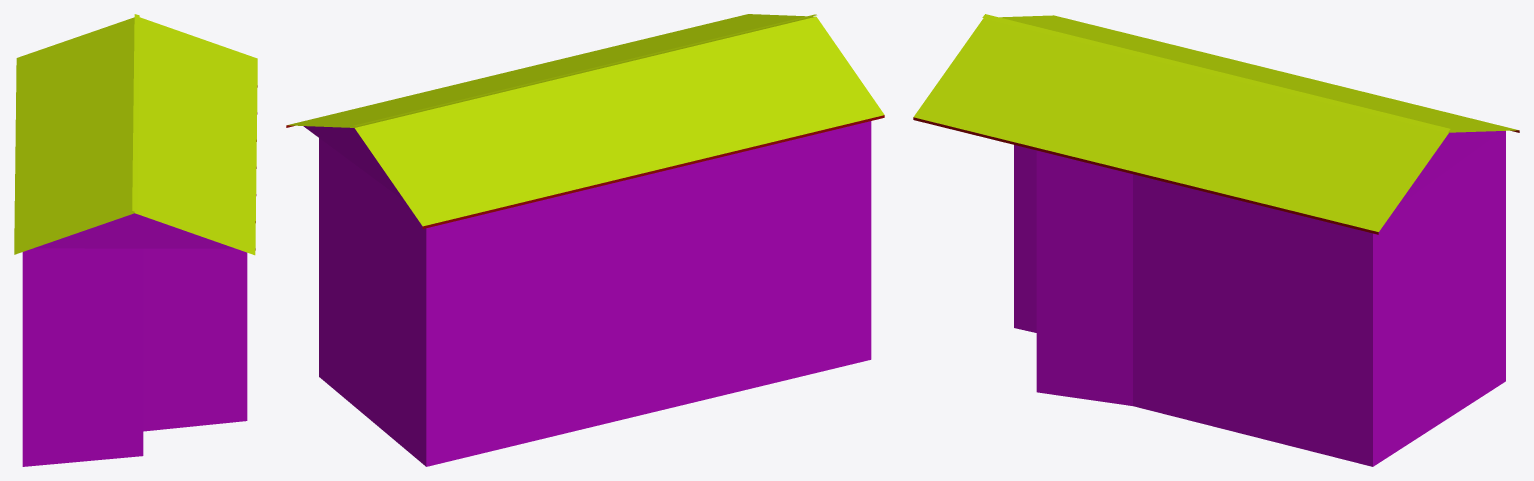
File: rmc_90.glb
The picture shows the model from 3 angles, left to right: view 1: azimuth 30°, elevation 25°; view 2: azimuth 150°, elevation 25°; view 3: azimuth 270°, elevation 25°; orthographic projection. The views are drawn at different scales.
Parts seen in each view (by area): view 1: rmc_90; view 2: rmc_90; view 3: rmc_90.
Boxes of the visible parts, x1,y1,x2,y2 form: rmc_90: (14,14,257,466); rmc_90: (286,14,884,466); rmc_90: (913,14,1519,466).
Bounding box in the file's own units: 20.61 × 13.33 × 24.36.
